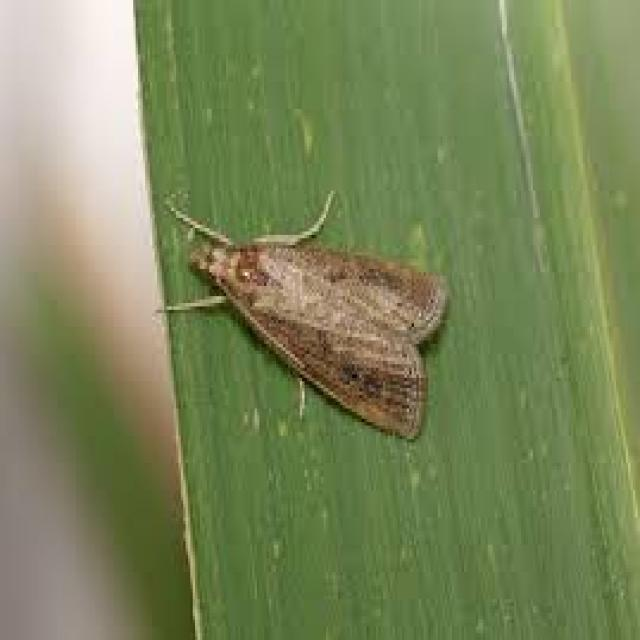yellow-stem-borer: (146, 177, 494, 458)
